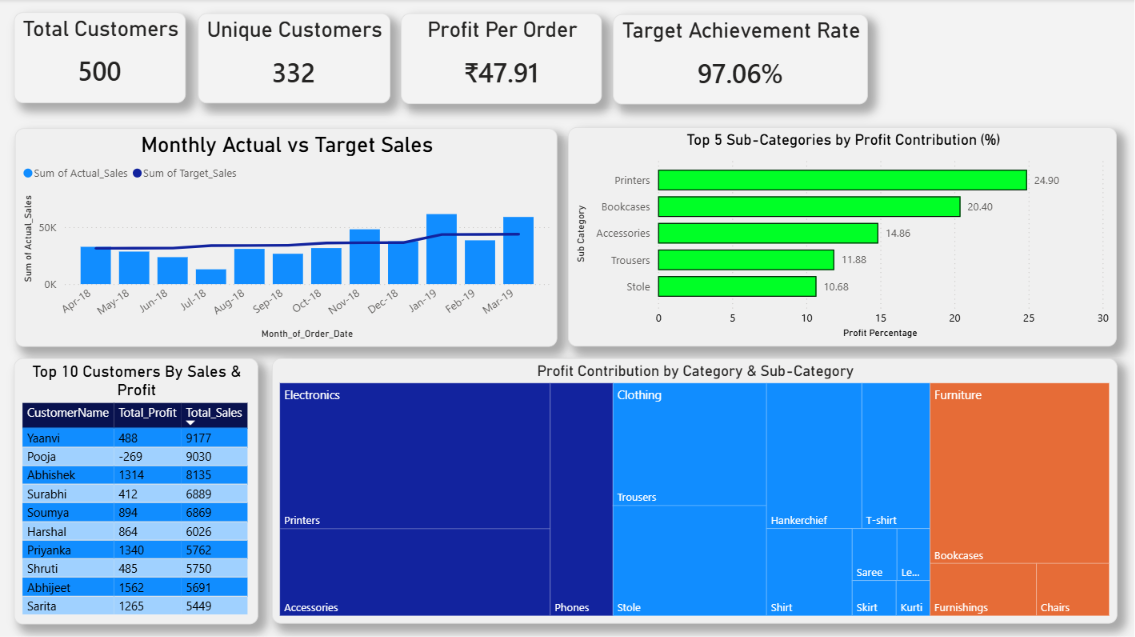

Layout of this report page (visuals, bound fields, positions):
{"tool":"powerbi","page":{"name":"Targets, Customers & Profitability Deep-Dive","canvas":[1280,720],"ordinal":1},"visuals":[{"type":"cardVisual","title":"Total Customers","fields":{"Data":["List_of_Orders.Total Customers"]},"box":[15.8,14.7,193.9,102.6],"z":0},{"type":"cardVisual","title":"Unique Customers","fields":{"Data":["Order_Details.Unique Customers"]},"box":[223.2,15.8,216.4,101.4],"z":1000},{"type":"cardVisual","title":"Profit Per Order","fields":{"Data":["Order_Details.AOP"]},"box":[452,15.8,226.6,102.6],"z":2000},{"type":"cardVisual","title":"Target Achievement Rate","fields":{"Data":["monthly_sales_target_vs_actual.TAR"]},"box":[690.9,16.9,287.4,101.4],"z":3000},{"type":"lineClusteredColumnComboChart","title":"Monthly Actual vs Target Sales","fields":{"Category":["monthly_sales_target_vs_actual.Month_of_Order_Date"],"Y":["Sum(monthly_sales_target_vs_actual.Actual_Sales)"],"Y2":["Sum(monthly_sales_target_vs_actual.Target_Sales)"]},"box":[16.9,145.4,611.6,246.7],"z":4000},{"type":"tableEx","title":"Top 10 Customers By Sales & Profit","fields":{"Values":["top_10_cust_by_sales_profit.CustomerName","top_10_cust_by_sales_profit.Total_Profit","top_10_cust_by_sales_profit.Total_Sales"]},"box":[15.8,404.6,275,299.8],"z":5000},{"type":"barChart","title":"Top 5 Sub-Categories by Profit Contribution (%)","fields":{"Category":["Profit_contribution_by_Category_SubCategory.Sub_Category"],"Y":["Sum(Profit_contribution_by_Category_SubCategory.Profit_Contribution_pct)"]},"box":[640.2,144.8,618.8,246.9],"z":6000},{"type":"treemap","title":"Profit Contribution by Category & Sub-Category","fields":{"Group":["Profit_contribution_by_Category_SubCategory.Category"],"Values":["Sum(Profit_contribution_by_Category_SubCategory.Profit_Contribution_pct)"],"Details":["Profit_contribution_by_Category_SubCategory.Sub_Category"]},"box":[306.1,404.8,952.8,299.5],"z":7000}]}

Visuals, with their boxes in screenshot pixels (x1, y1, x2, y2), scaled from the page's 1280x720 canvas onto the 1135x637 screenshot:
"Total Customers" cardVisual: 14,13,186,104
"Unique Customers" cardVisual: 198,14,390,104
"Profit Per Order" cardVisual: 401,14,602,105
"Target Achievement Rate" cardVisual: 613,15,867,105
"Monthly Actual vs Target Sales" lineClusteredColumnComboChart: 15,129,557,347
"Top 10 Customers By Sales & Profit" tableEx: 14,358,258,623
"Top 5 Sub-Categories by Profit Contribution (%)" barChart: 568,128,1116,347
"Profit Contribution by Category & Sub-Category" treemap: 271,358,1116,623
